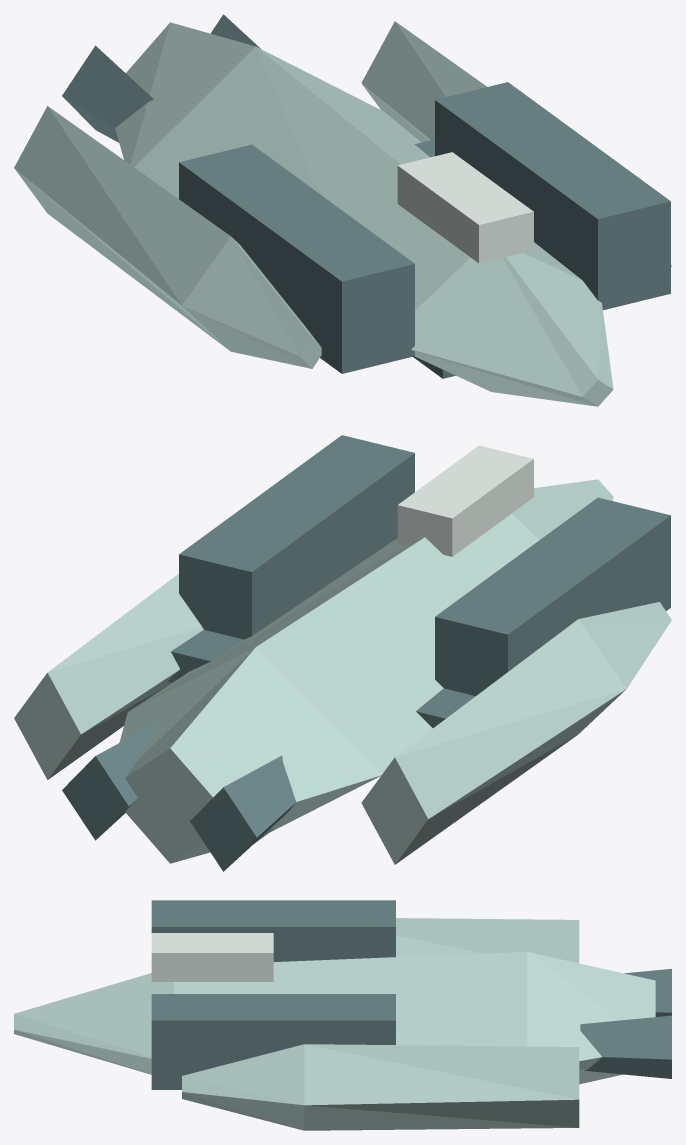
3 views of the same model, one above another, from view 1: azimuth 30°, elevation 25°; view 2: azimuth 150°, elevation 25°; view 3: azimuth 270°, elevation 25° (orthographic). The views are drawn at different scales.
Size of the model in its own units: 2.39 by 1.05 by 4.09.
